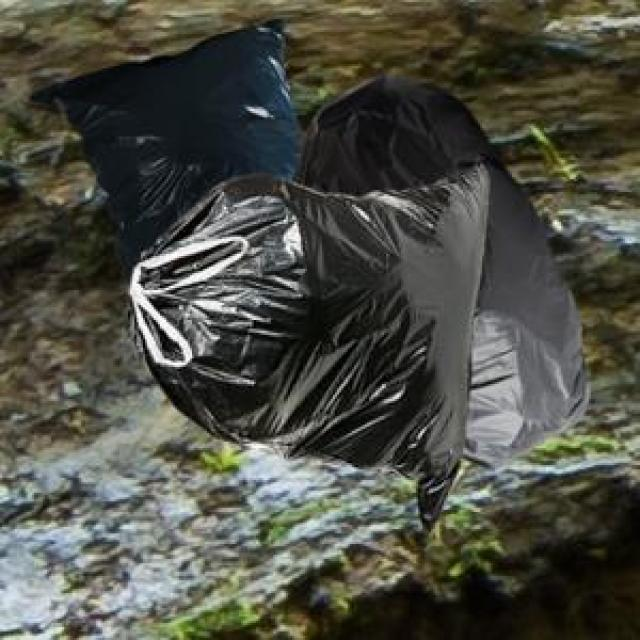waste: (37, 22, 588, 523)
